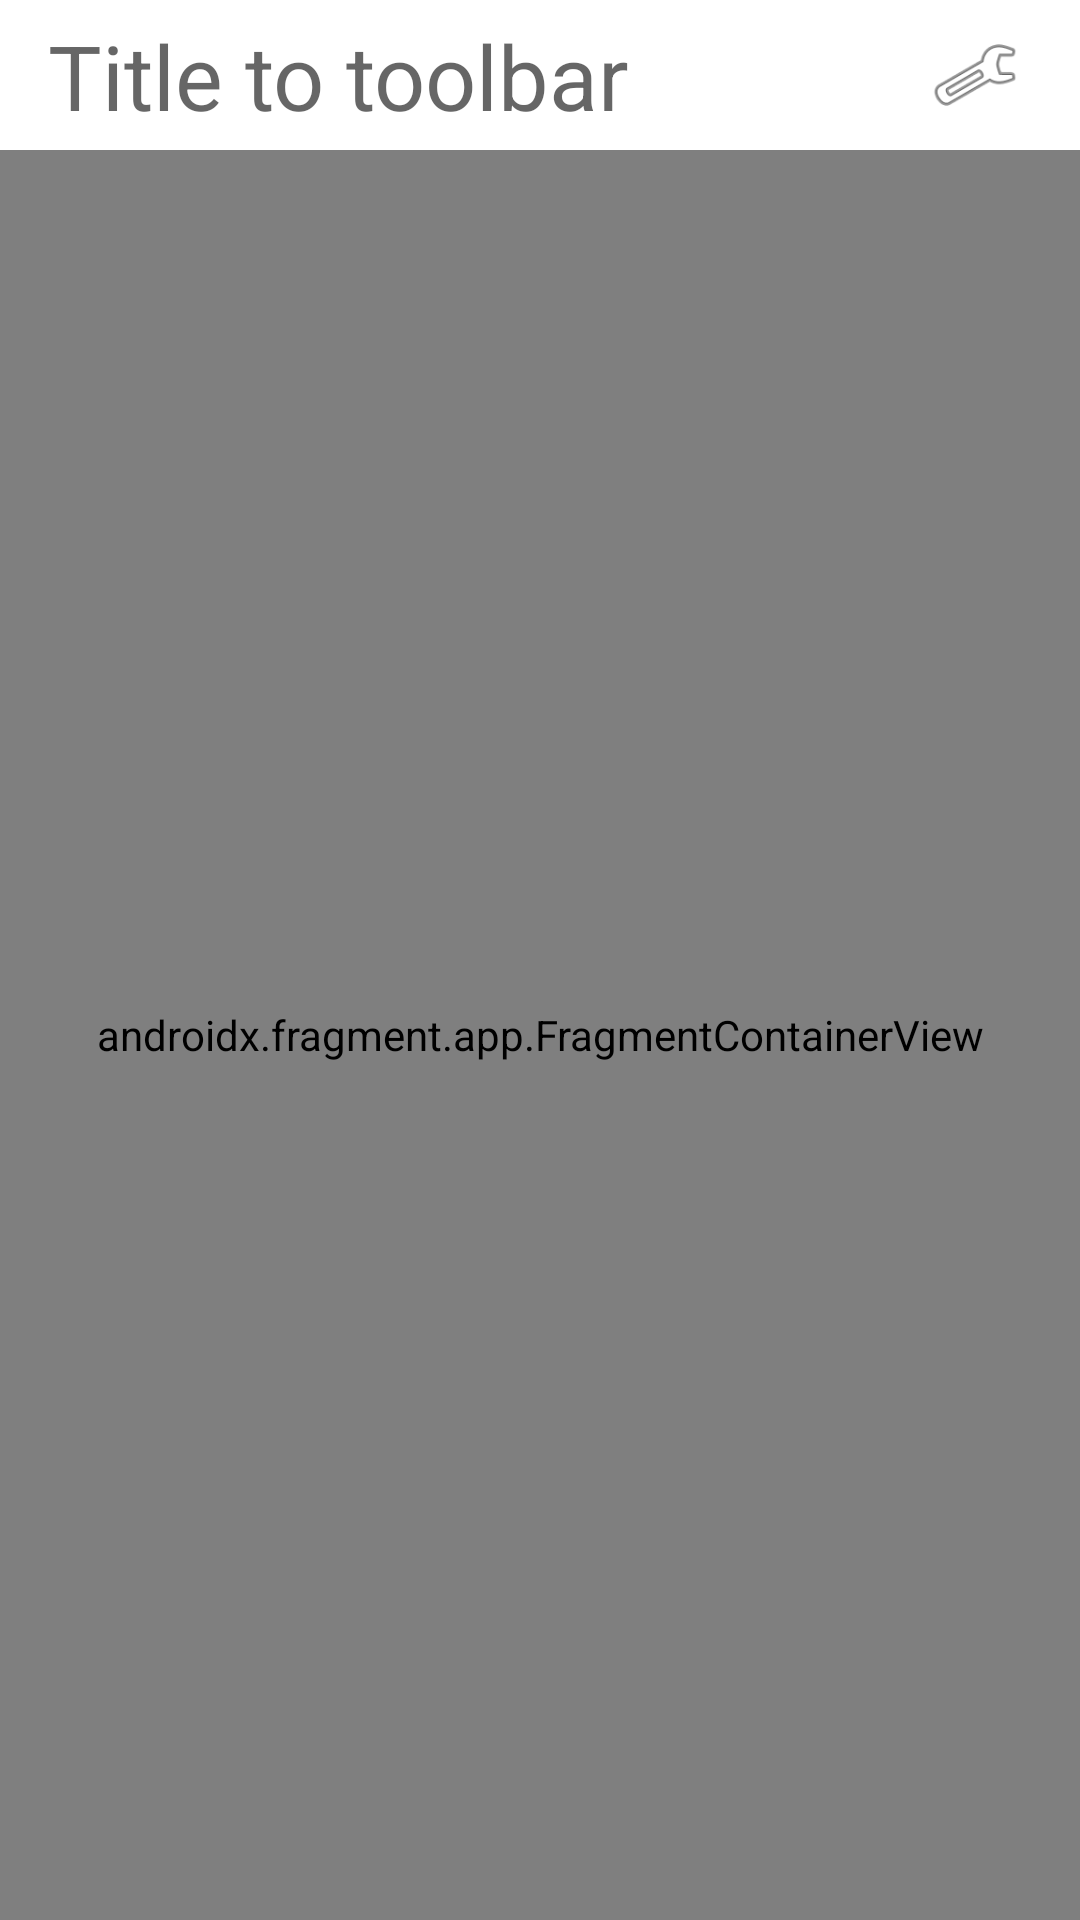

Named icons in this screenshot (1080*1920) and their centers, point (x, y):
manage: point (975, 75)
